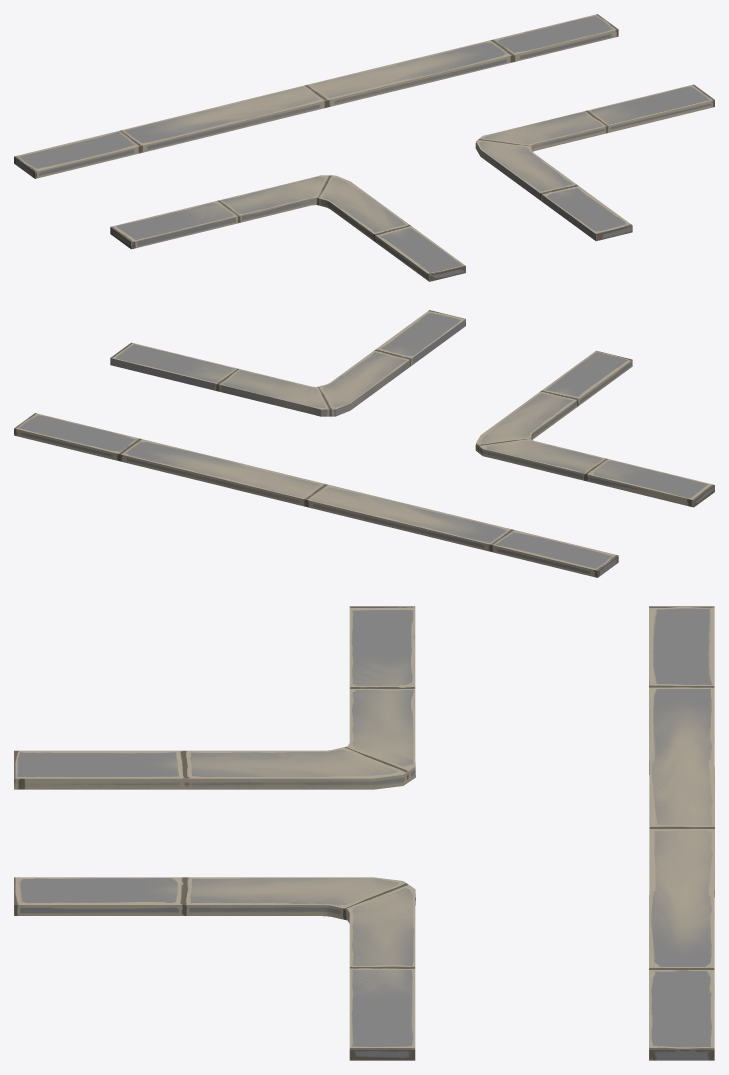
The model's file is SM_ARCH_SideWalkTJunction_Tile.fbx.
The picture shows the model from 3 angles, top to bottom: view 1: azimuth 30°, elevation 25°; view 2: azimuth 150°, elevation 25°; view 3: azimuth 270°, elevation 25°; orthographic projection. The views are drawn at different scales.
Visible parts, largest first — view 1: m_sidewalkTJunction; view 2: m_sidewalkTJunction; view 3: m_sidewalkTJunction.
Part boxes in pixels (x1,y1,x2,y2): m_sidewalkTJunction: (14,14,714,281); m_sidewalkTJunction: (14,310,714,577); m_sidewalkTJunction: (14,606,714,1060).
Size of the model in its own units: 3200 by 37.69 by 2139.
Materials: 1 (1 with a texture image).
